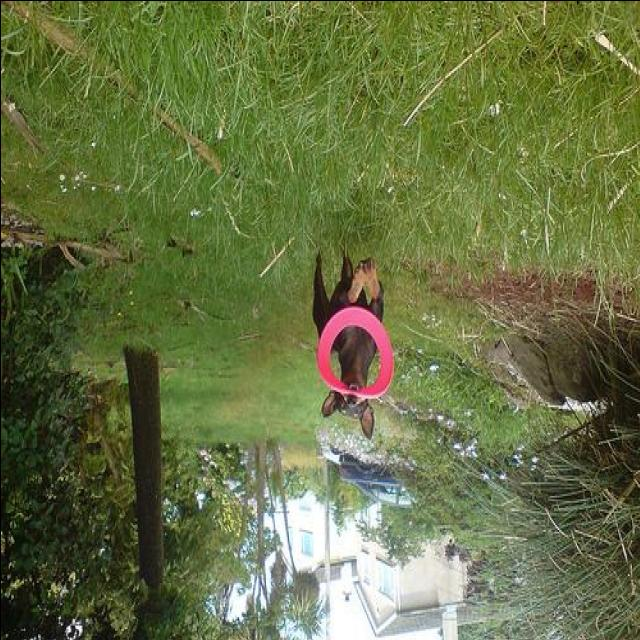toy_terrier: (308, 246, 382, 442)
